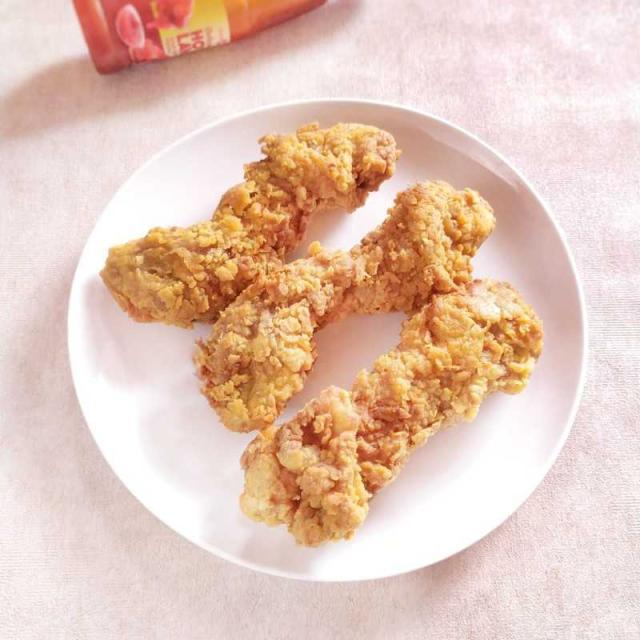Frango: (244, 287, 546, 550), (201, 182, 501, 435), (105, 120, 399, 322)
